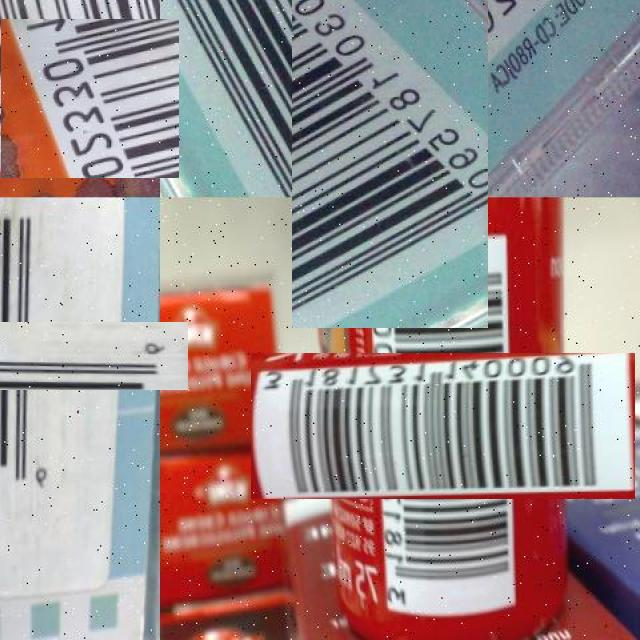Barcode: (226, 0, 555, 262), (310, 293, 575, 558), (0, 9, 170, 187), (0, 261, 129, 450)
